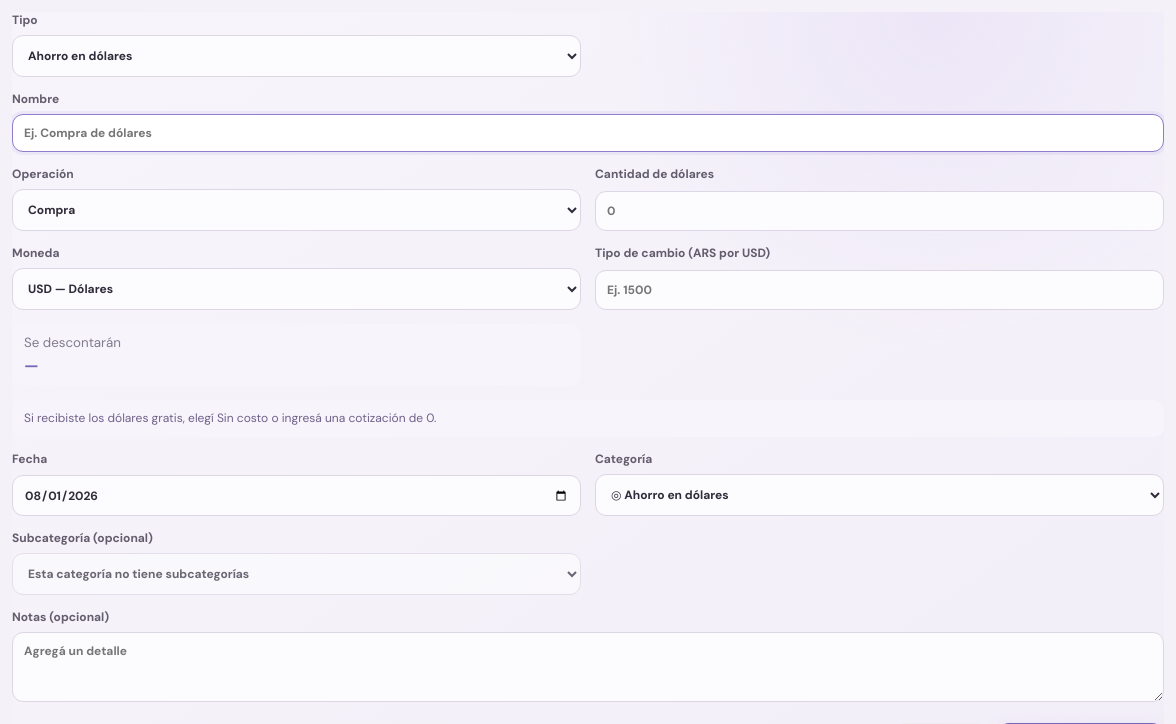
Scenario: transaction category selection › always offers every main category and its subcategories for savings
Select "🏅 Deportes" in the dropdown labelled "Categoría": (880, 495) [595,474,1164,516]
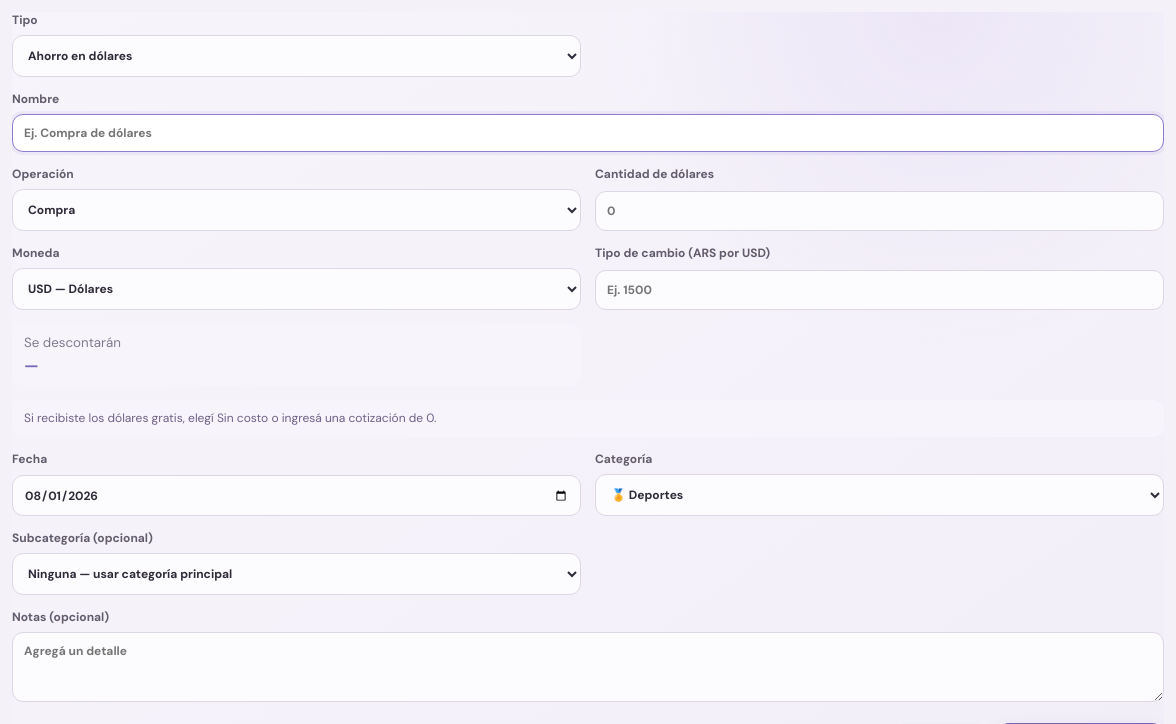
Expected: the dropdown labelled "Subcategoría (opcional)" is enabled, [12,553,581,595]
